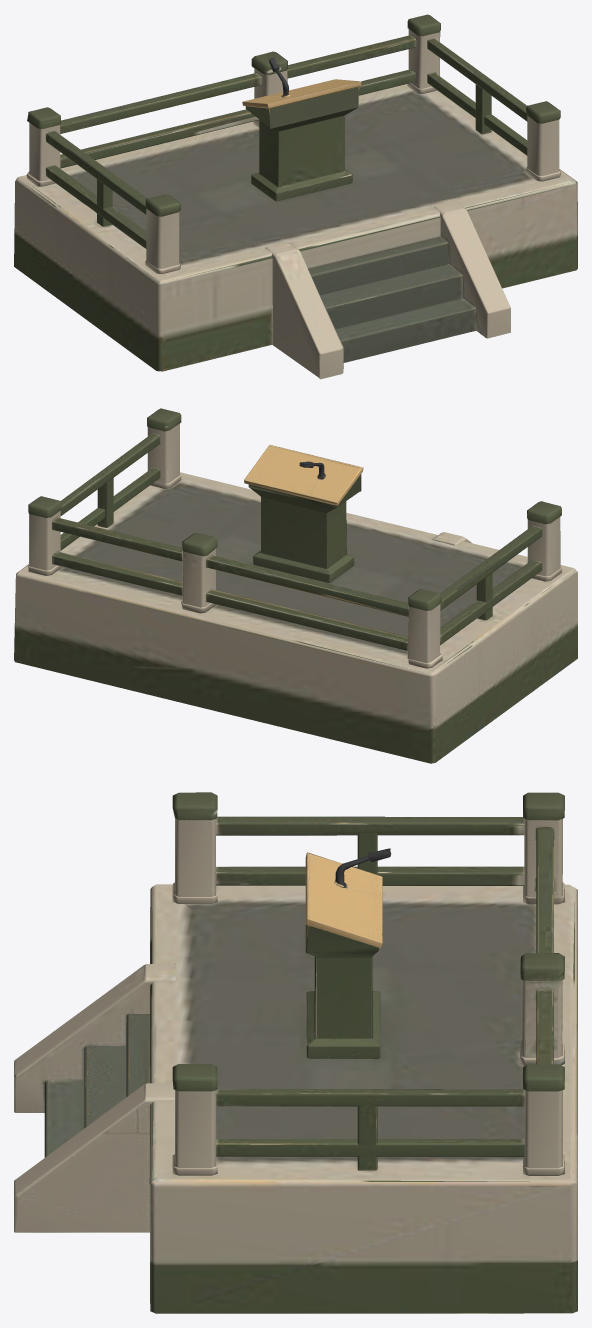
The model's file is podium.glb.
3 renders of one model, top to bottom at view 1: azimuth 30°, elevation 25°; view 2: azimuth 150°, elevation 25°; view 3: azimuth 270°, elevation 25°, orthographic. The views are drawn at different scales.
Bounding box in the file's own units: 0.9575 × 0.4512 × 0.7583.
1 material, 1 textured.
